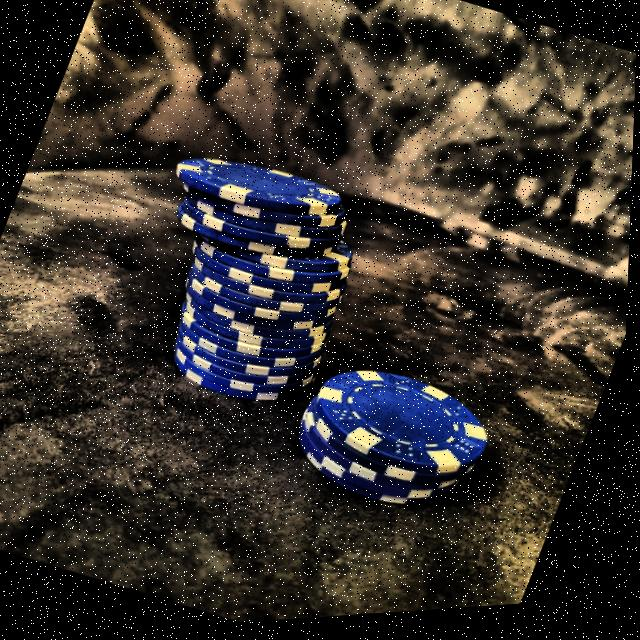Chip: (97, 119, 391, 435), (276, 331, 521, 554)
